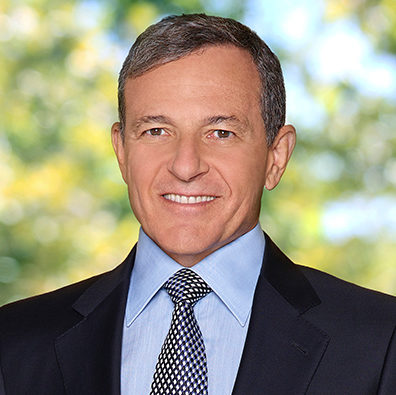bare: (119, 151, 272, 252)
